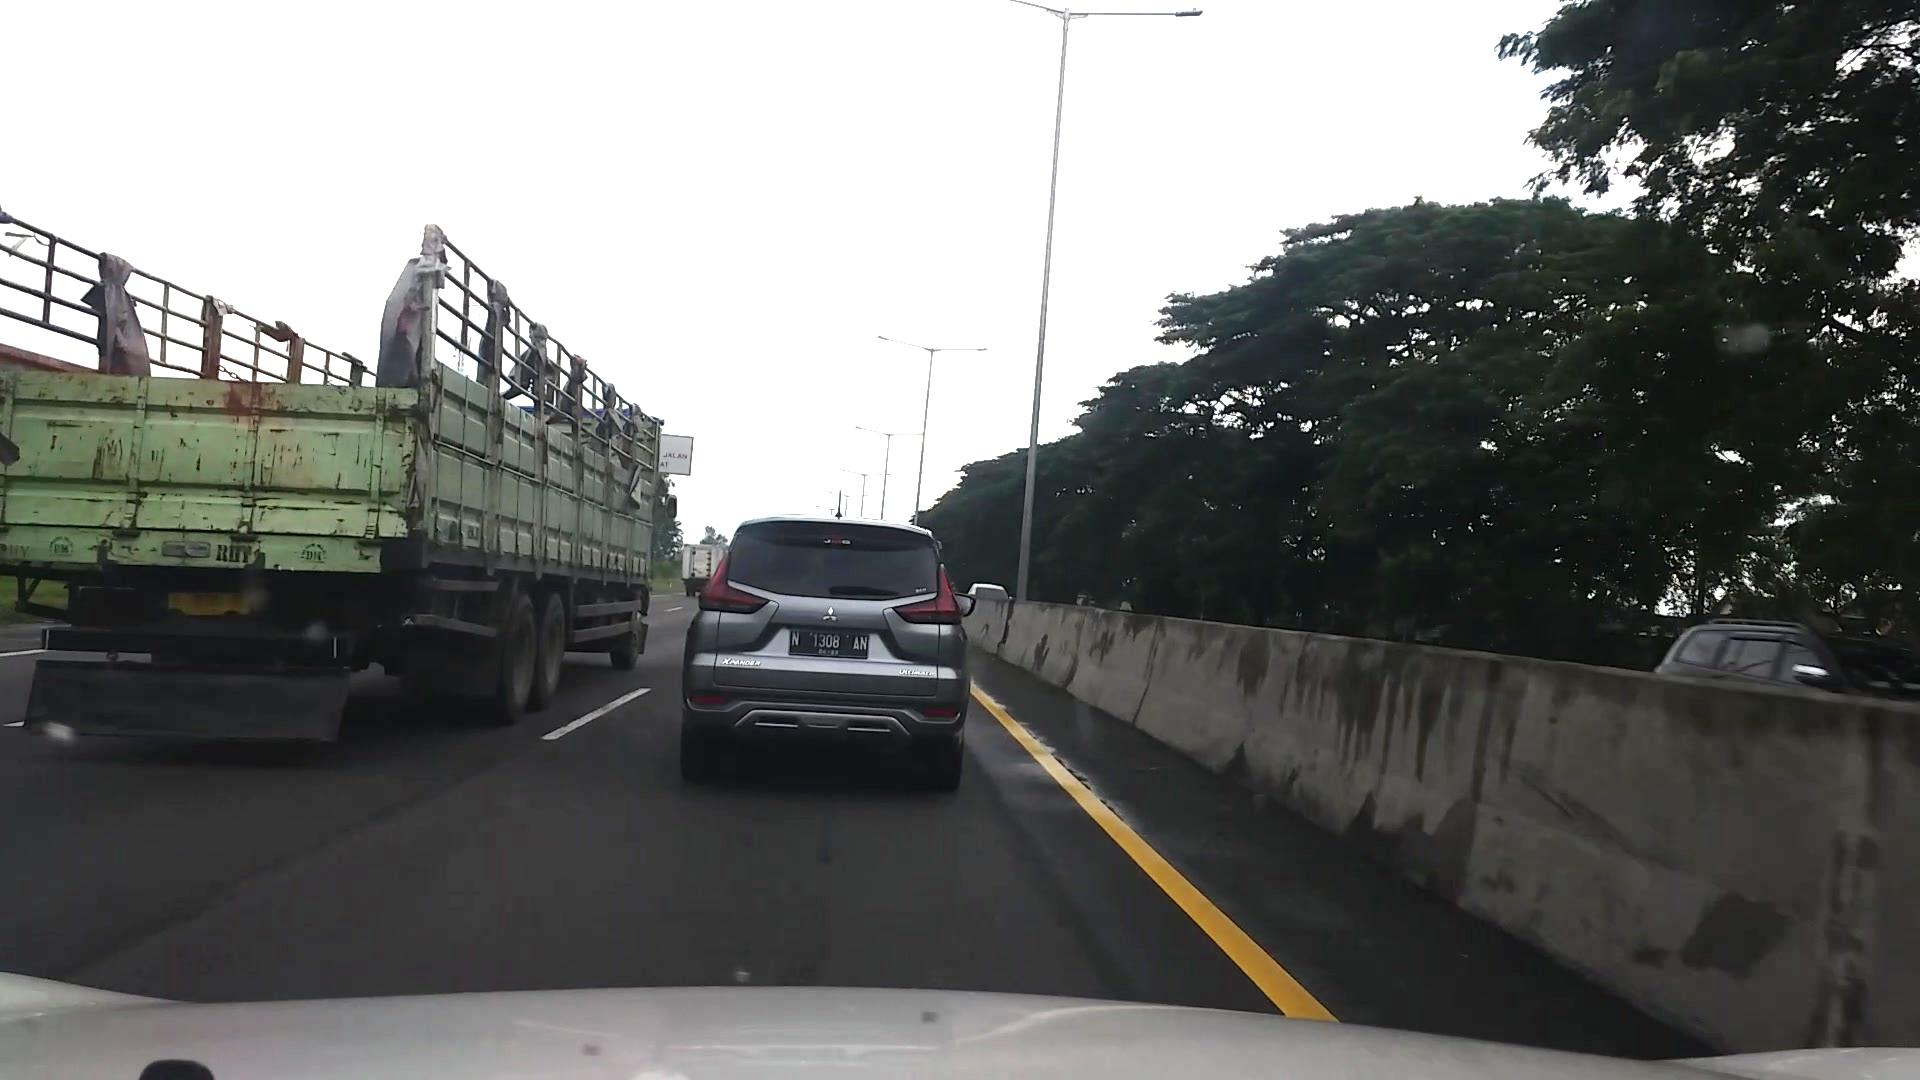plate_positive: (789, 629, 868, 658)
